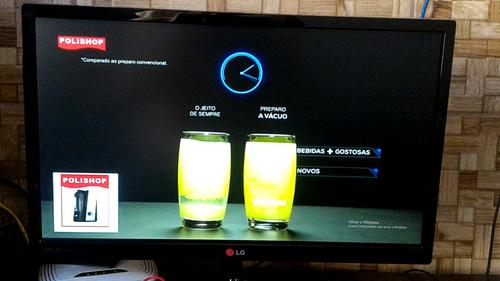Polishop #1: (52, 171, 119, 231)
